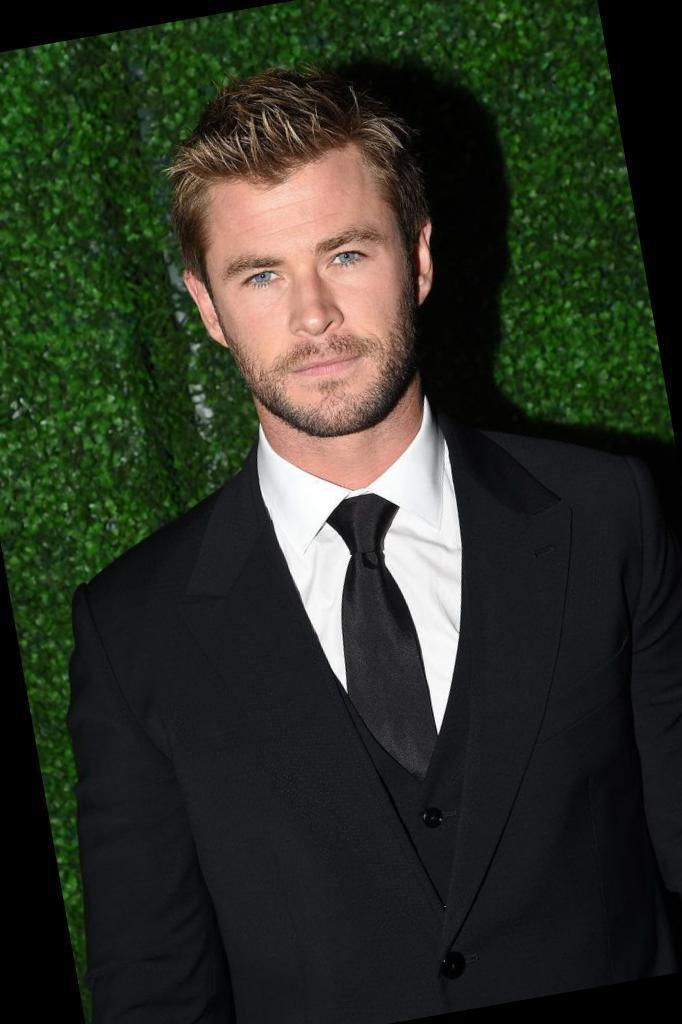Sober: (201, 172, 408, 409)
